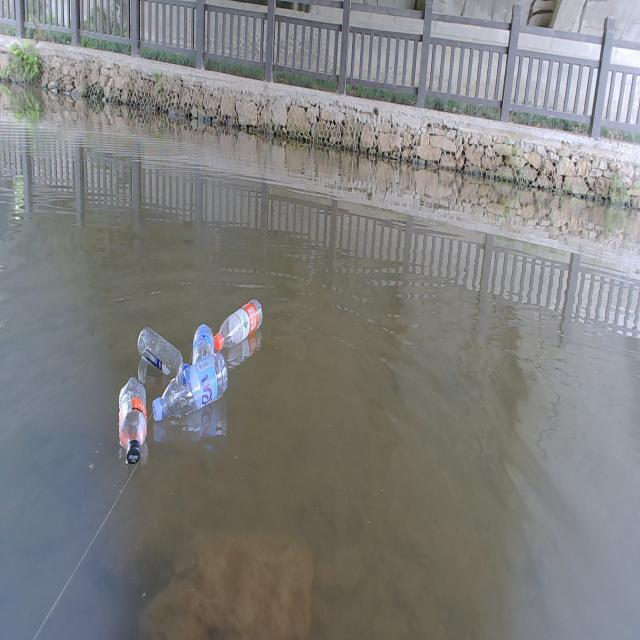garbage: (152, 351, 228, 422), (213, 297, 263, 351), (118, 376, 148, 464), (137, 325, 183, 377), (190, 323, 216, 365)
